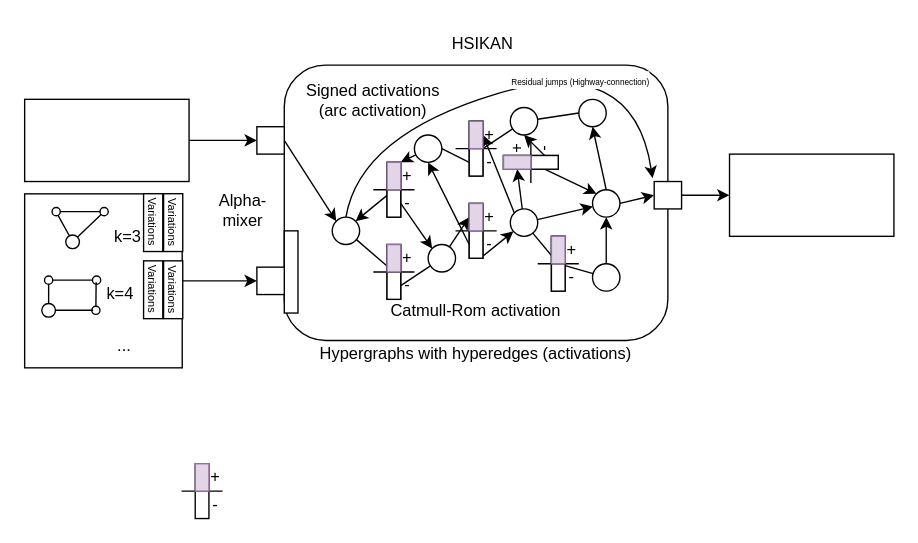
This 918x543 diagram has some shape labels left out. The centre of each missing label's shape, as x and y in pixels:
"Inference output" goes at point (811, 194).
"Input as signed hypergraph" goes at point (106, 140).
